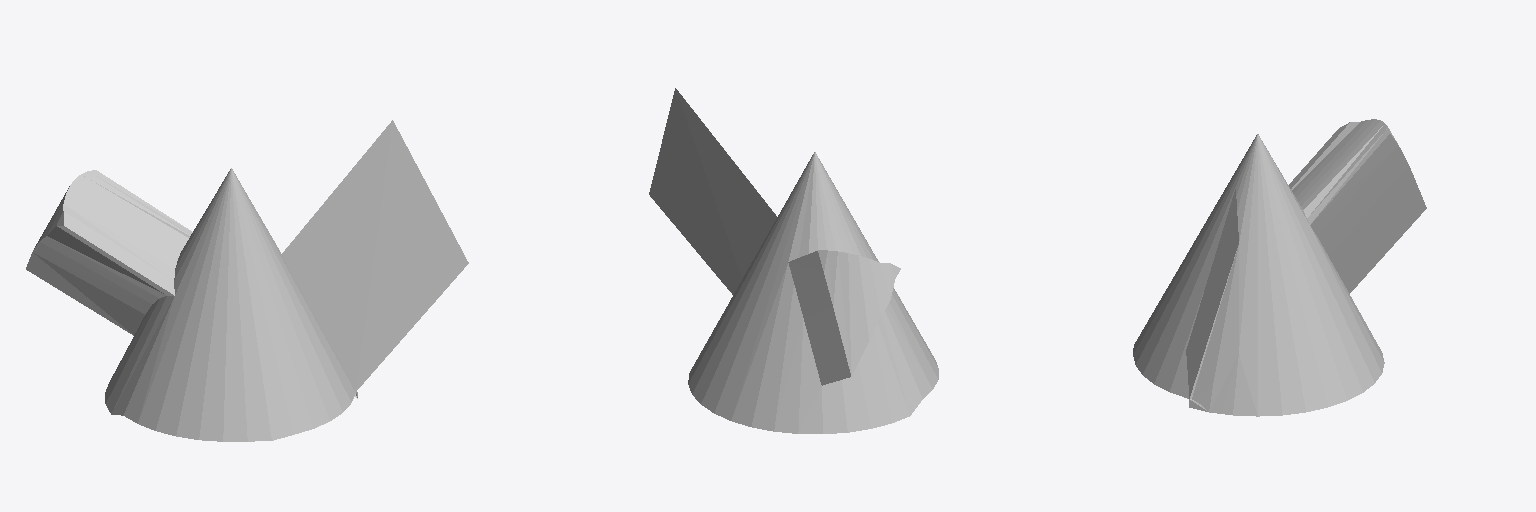
File: move.obj
3 renders of one model, left to right at view 1: azimuth 30°, elevation 25°; view 2: azimuth 150°, elevation 25°; view 3: azimuth 270°, elevation 25°, orthographic.
Parts seen in each view (by area): view 1: Cone; view 2: Cone; view 3: Cone.
Boxes of the visible parts, x1,y1,x2,y2 form: Cone: [26, 120, 468, 441]; Cone: [649, 88, 938, 433]; Cone: [1133, 119, 1426, 416].
Size of the model in its own units: 1.67 by 1.19 by 1.28.